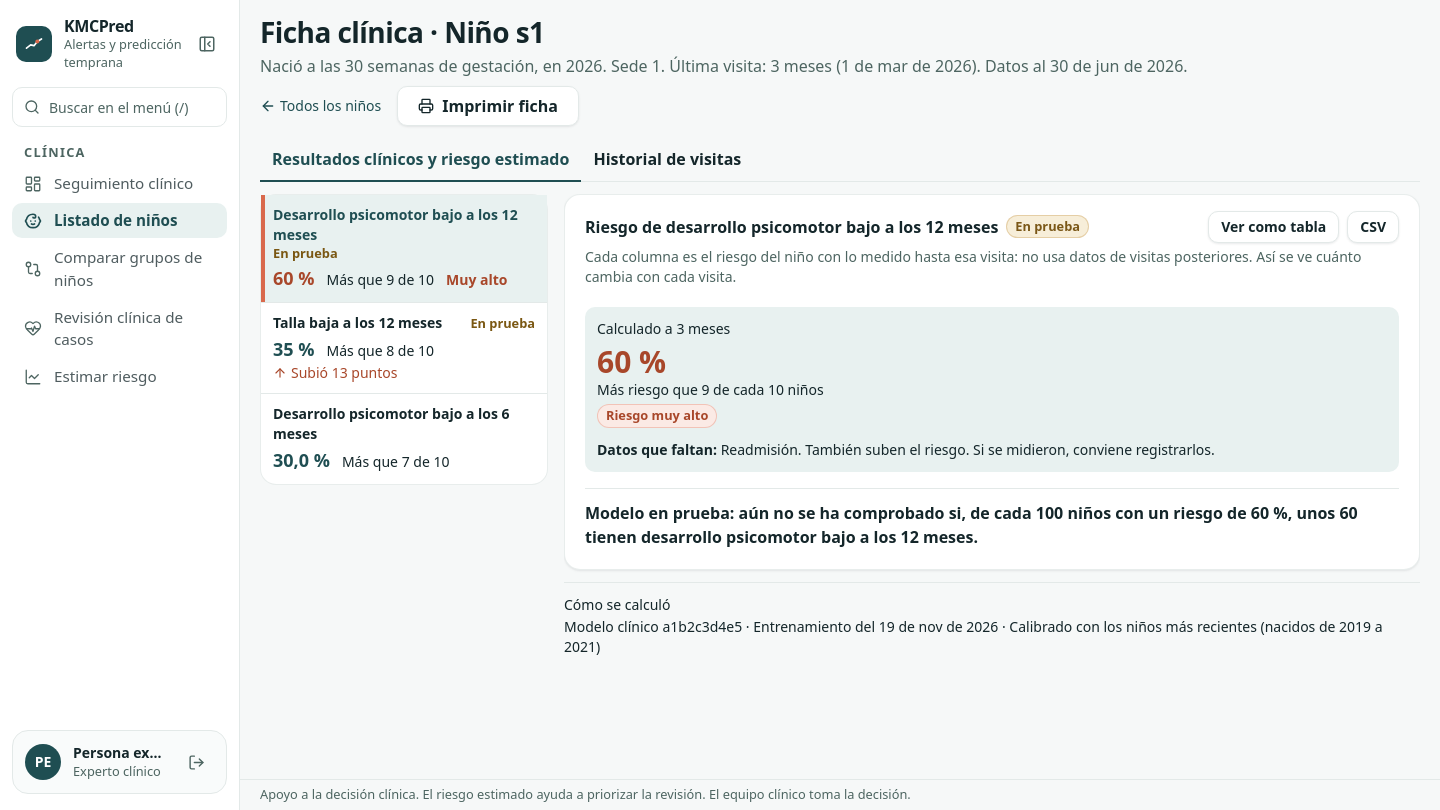
Test case: pestaña «Desenlaces» › lista todos los desenlaces, el de más riesgo primero y elegido; el elegido vive en la dirección
The width and height of the screenshot is (1440, 810).
Expected: the 3rd button shows "Desarrollo psicomotor bajo a los 12 meses", [261, 195, 547, 302]
Expected: the 3rd button shows "60 %", [261, 195, 547, 302]
Click the button that starts with "Talla baja a los 12 meses" at x=404, y=348, box [261, 303, 547, 393]
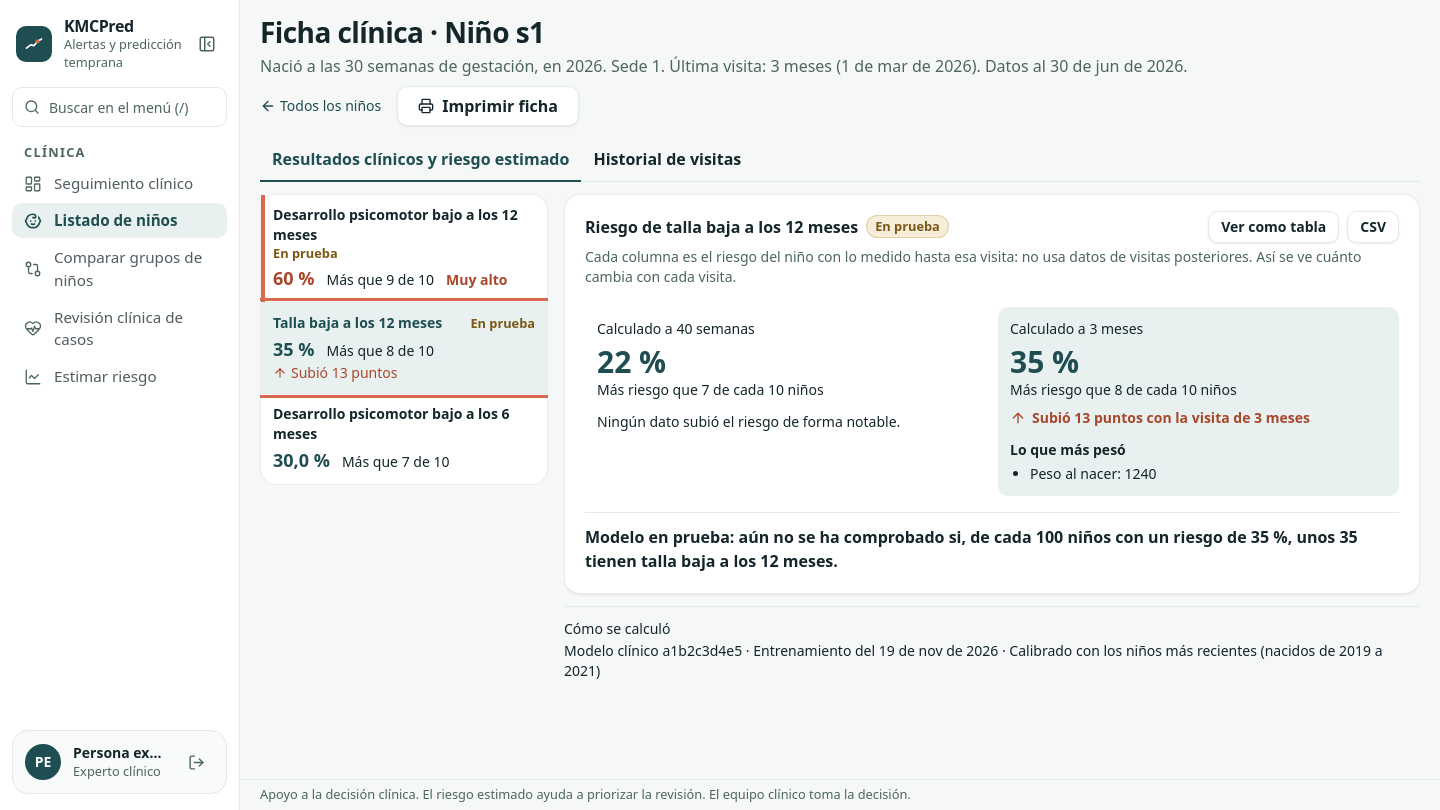
Now the heading "Calculado a 40 semanas" is shown, box [597, 319, 755, 338]
Click the button that starts with "Desarrollo psicomotor bajo a los 6 meses" at x=391, y=414, box [261, 394, 547, 484]
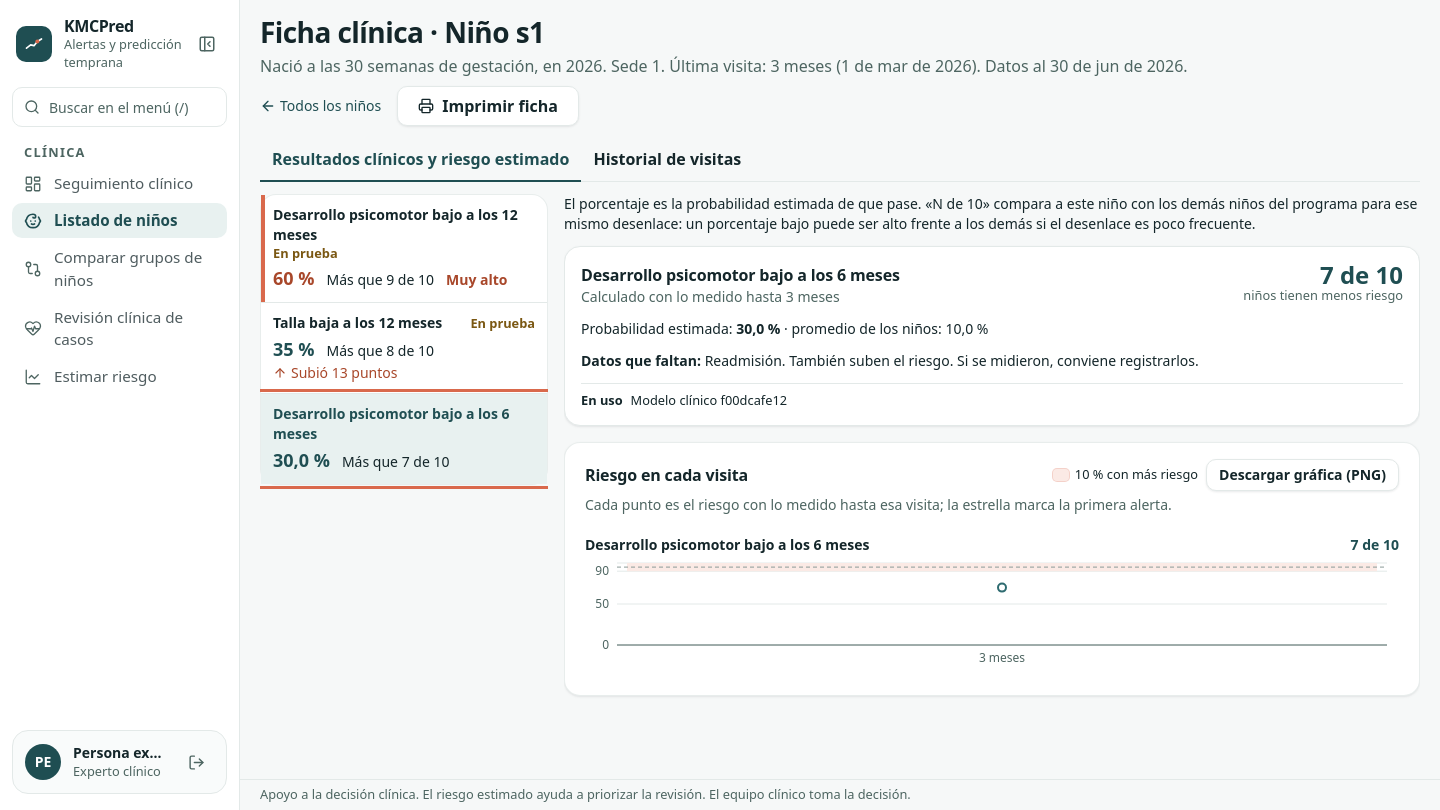
Now the 1st heading "Desarrollo psicomotor bajo a los 6 meses" is shown, box [581, 263, 900, 287]
